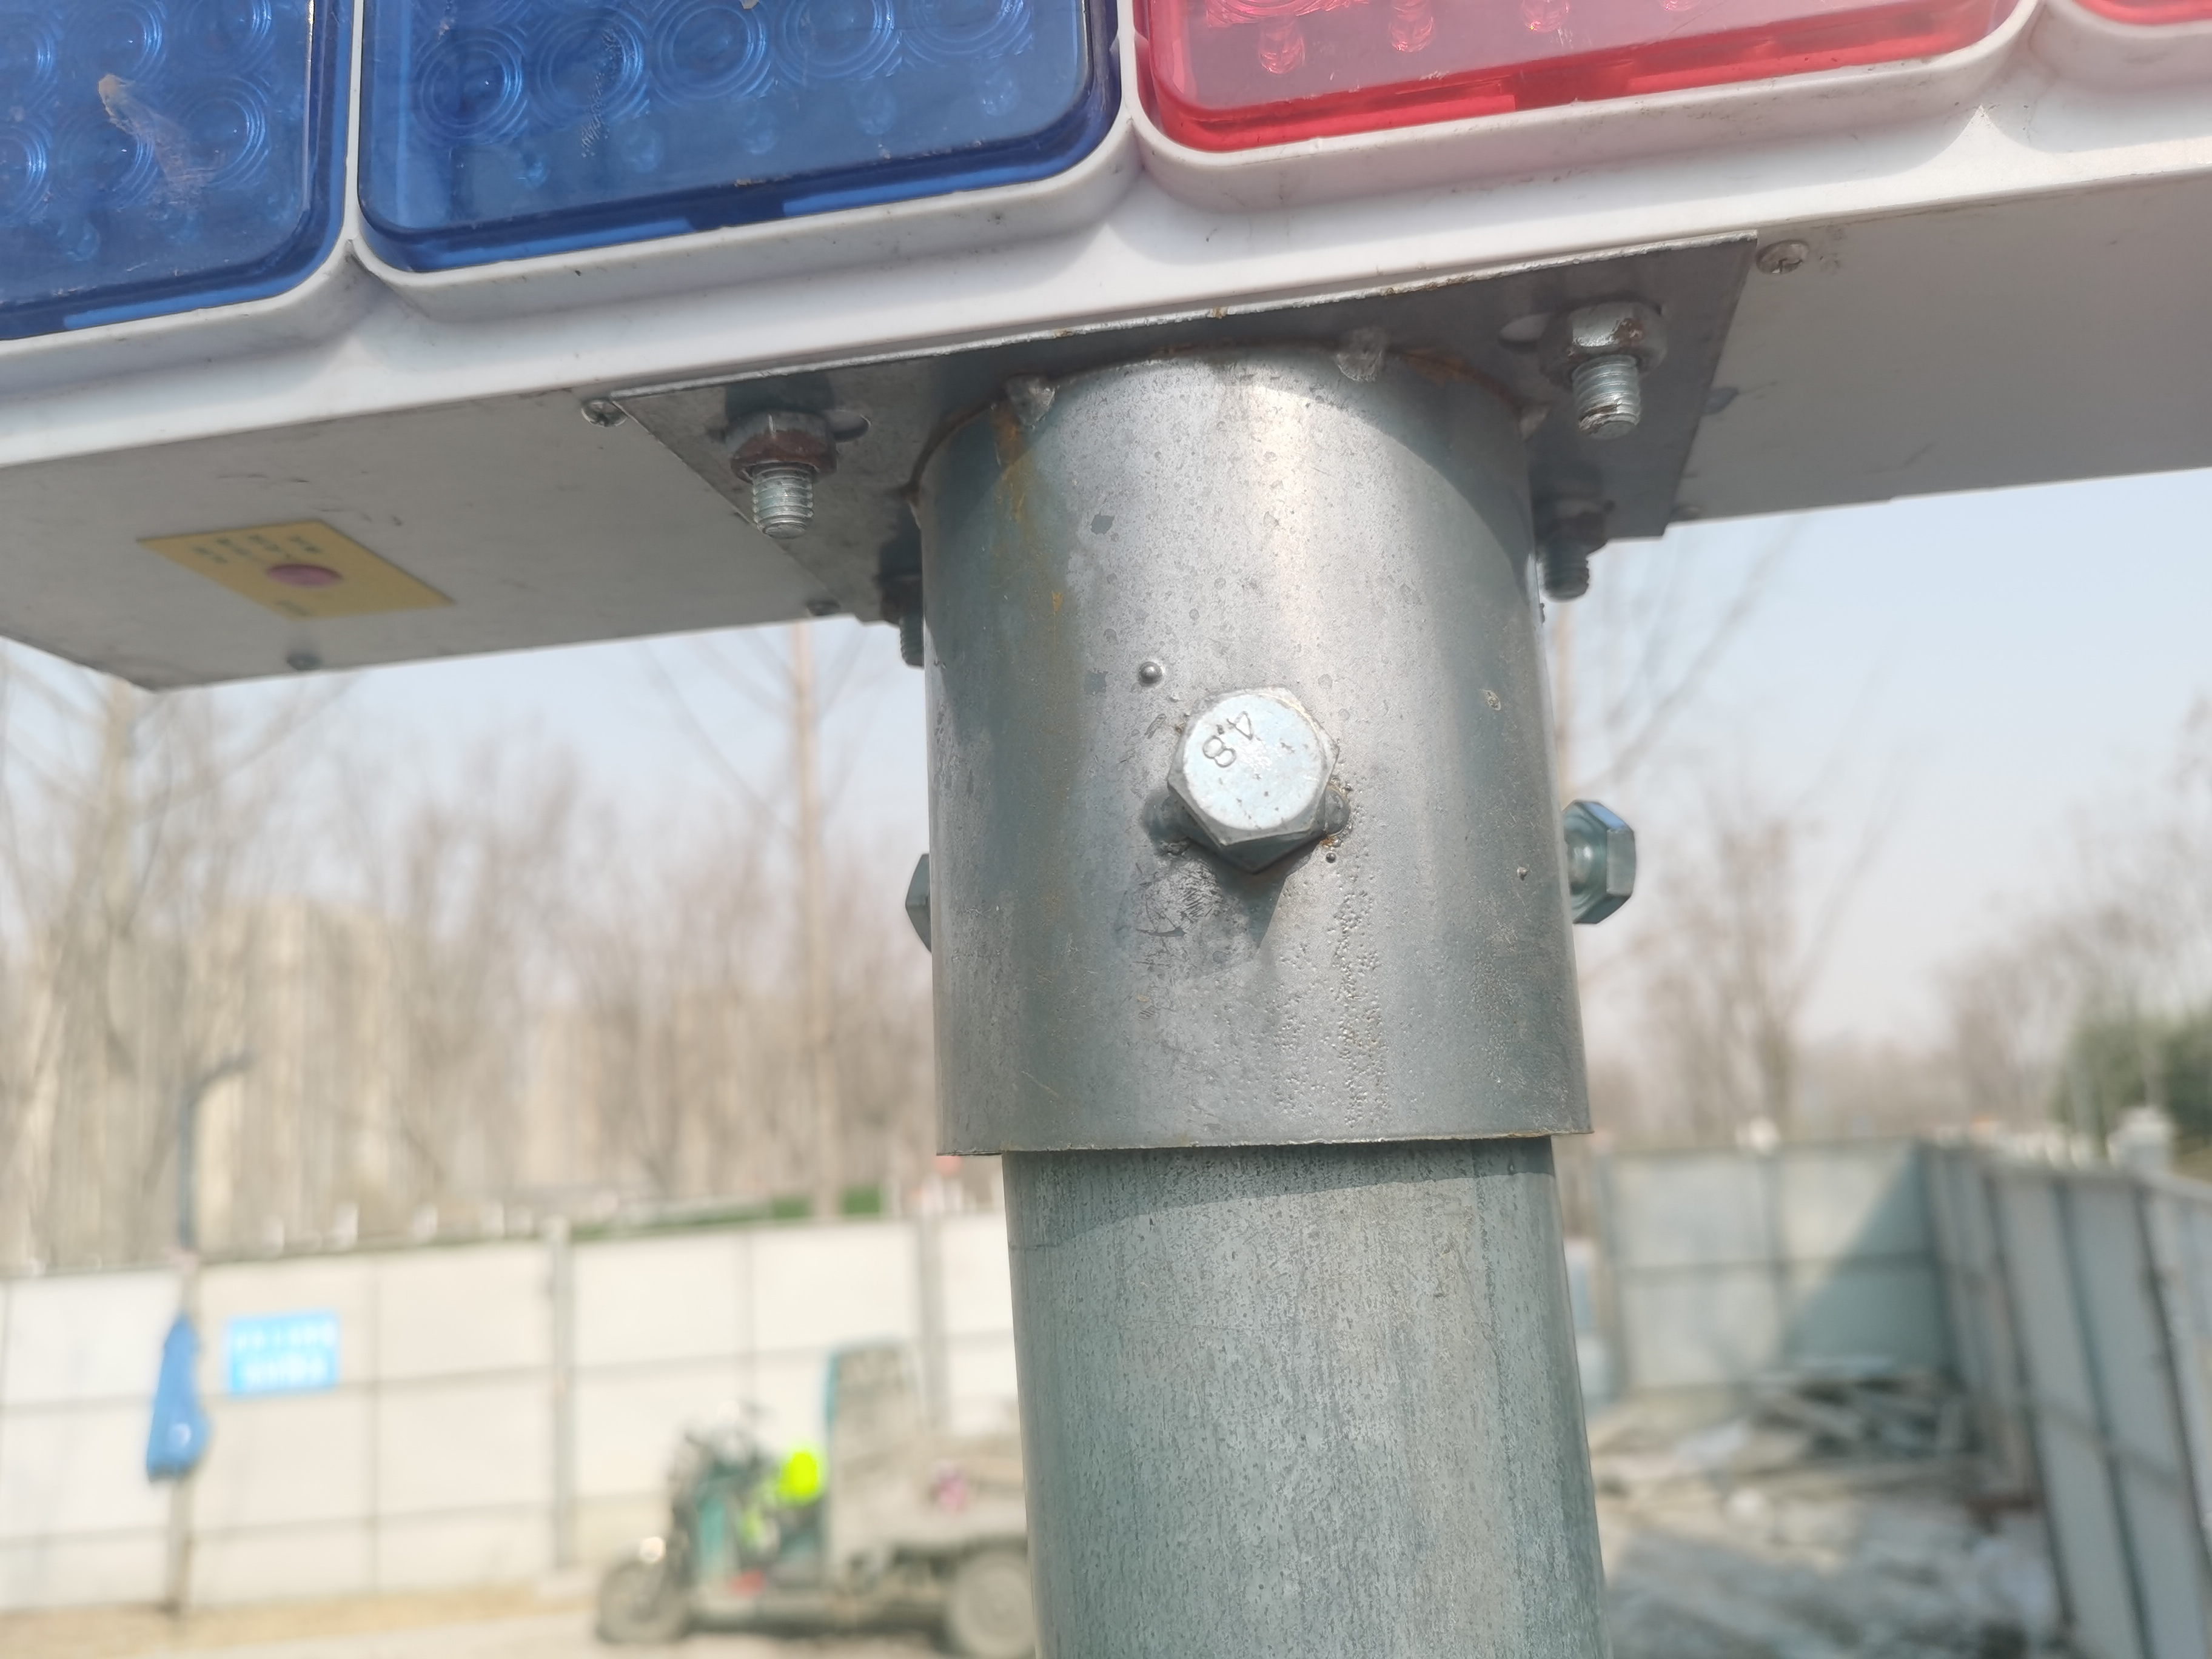bolt_a: (1157, 680, 1348, 863)
bolt_c: (1534, 300, 1679, 392), (1566, 791, 1639, 934), (721, 410, 841, 486)
vague: (1514, 495, 1622, 556)
